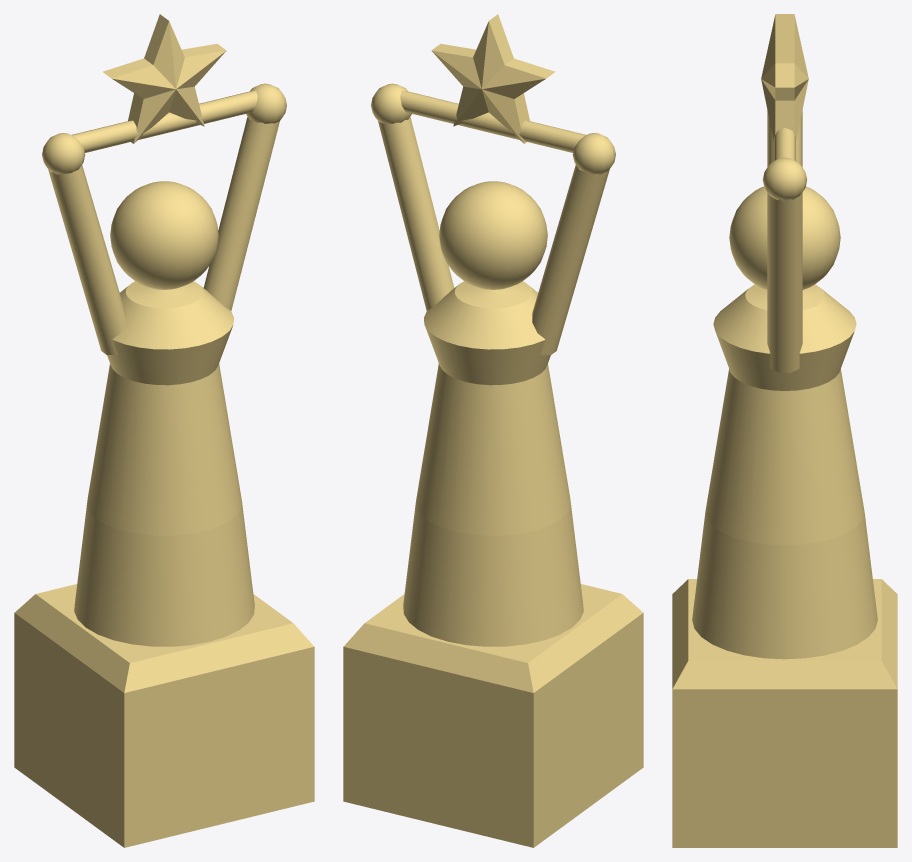
Rendered from statuette.glb.
3 views of the same model, side by side, from view 1: azimuth 30°, elevation 25°; view 2: azimuth 150°, elevation 25°; view 3: azimuth 270°, elevation 25° (orthographic). The views are drawn at different scales.
Parts seen in each view (by area): view 1: statuette; view 2: statuette; view 3: statuette.
Part boxes in pixels (x1,y1,x2,y2): statuette: (14,14,314,847); statuette: (343,14,643,847); statuette: (672,14,897,847).
Size of the model in its own units: 0.356 by 1.09 by 0.2828.
